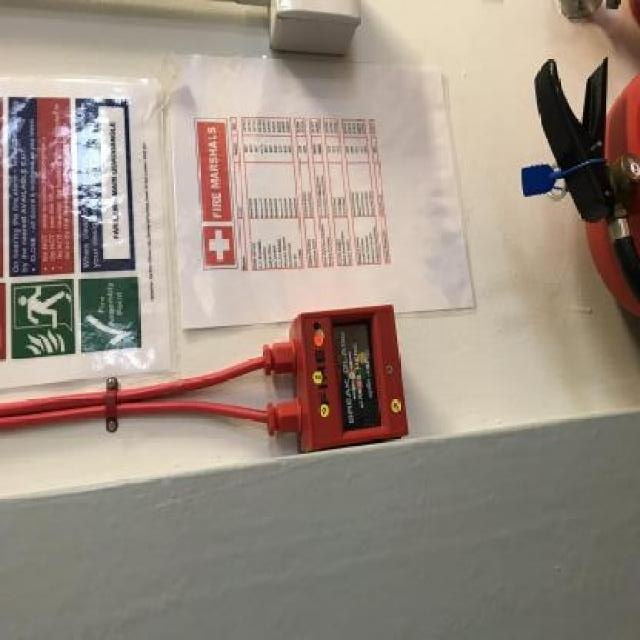fire extinguisher: (531, 57, 640, 312)
